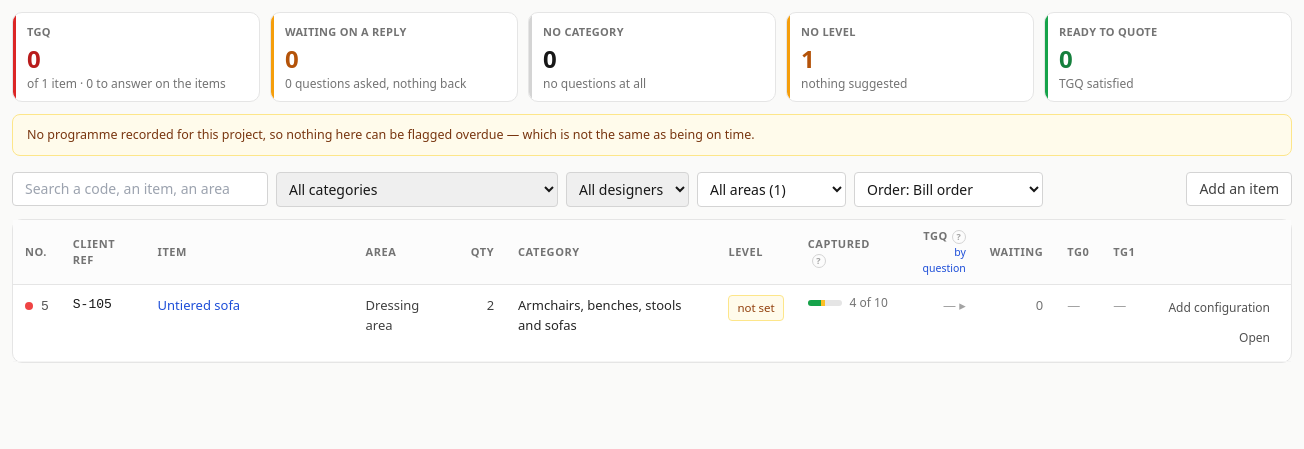
Test: a levelless record on the fallback half of TGQ (row d2) › prints a dash rather than a zero, and the dash opens
Click the button "— ▸": (954, 304) [943, 294, 966, 314]
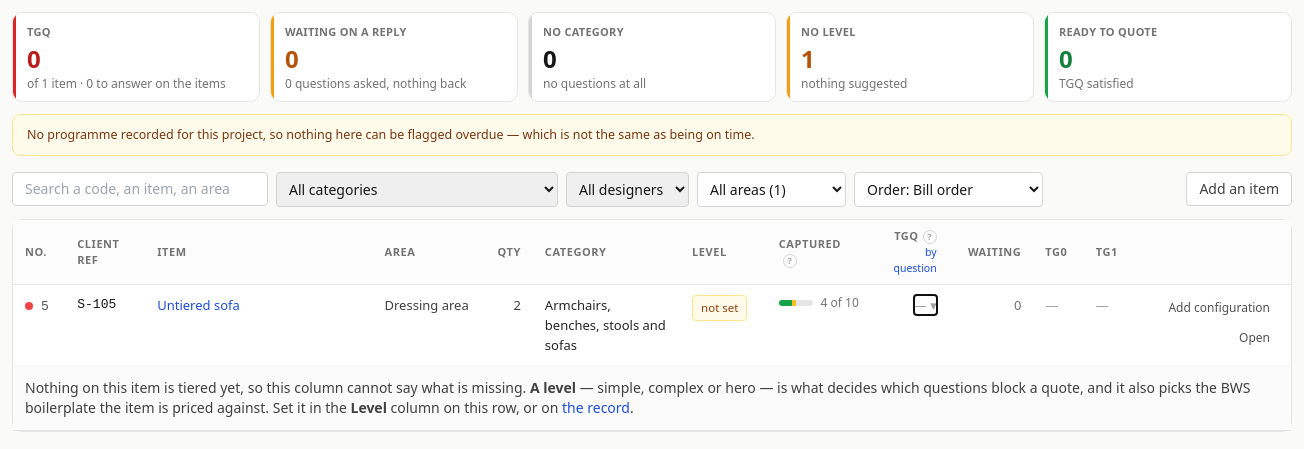
Result: the text "simple, complex or hero" is shown at [25, 378, 1250, 416]
